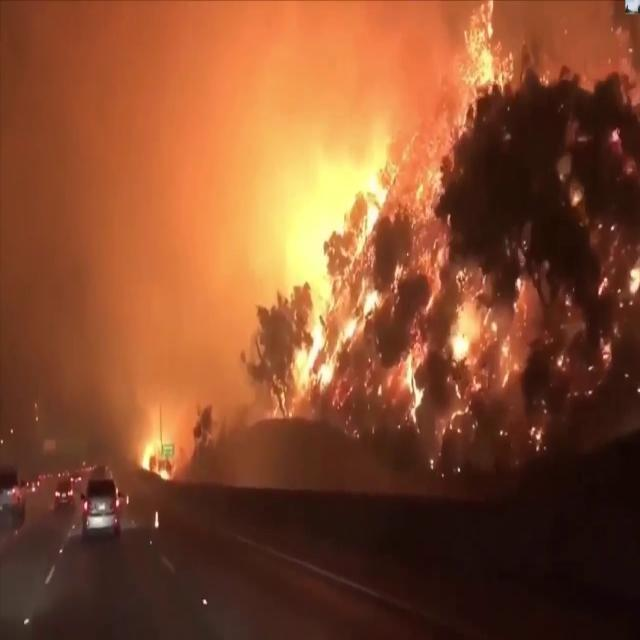Fire: (244, 5, 513, 429), (135, 399, 182, 488)
Smoke: (0, 2, 274, 434)
